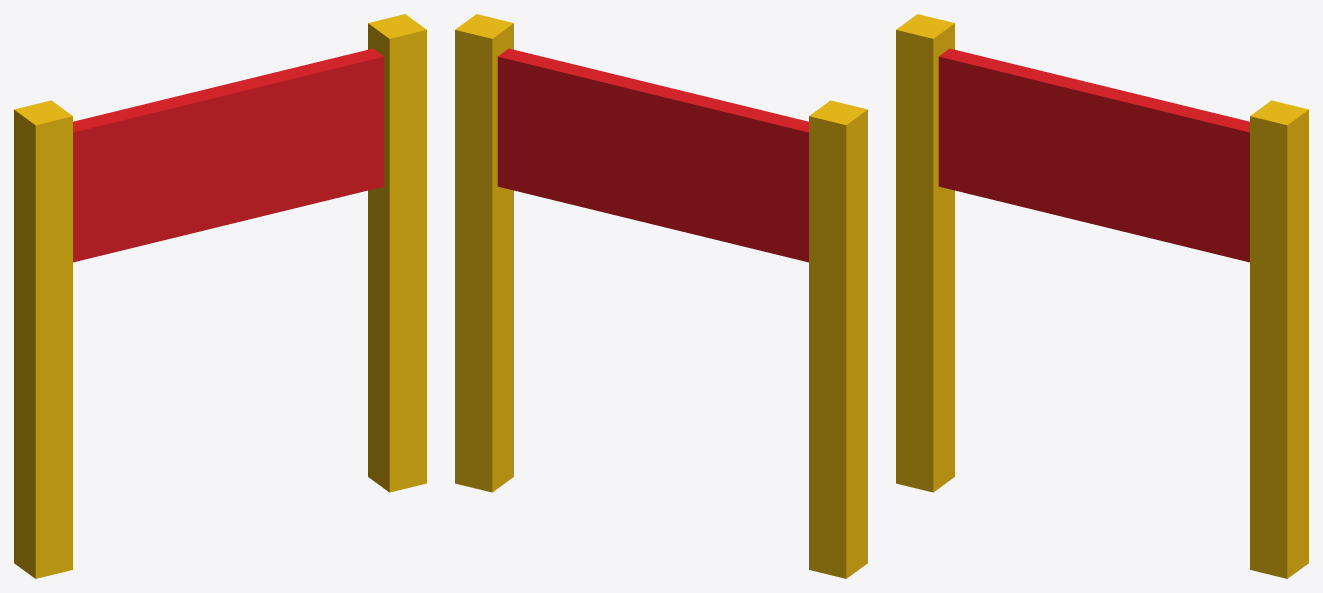
Rendered from Goal.obj.
3 views of the same model, side by side, from view 1: azimuth 30°, elevation 25°; view 2: azimuth 150°, elevation 25°; view 3: azimuth 330°, elevation 25° (orthographic).
Parts seen in each view (by area): view 1: Cube; view 2: Cube; view 3: Cube.
Part boxes in pixels (x1,y1,x2,y2): Cube: [14, 14, 426, 578]; Cube: [455, 14, 867, 578]; Cube: [896, 14, 1308, 578].
Size of the model in its own units: 1.21 by 1.34 by 0.1154.
1 material, 1 textured.
